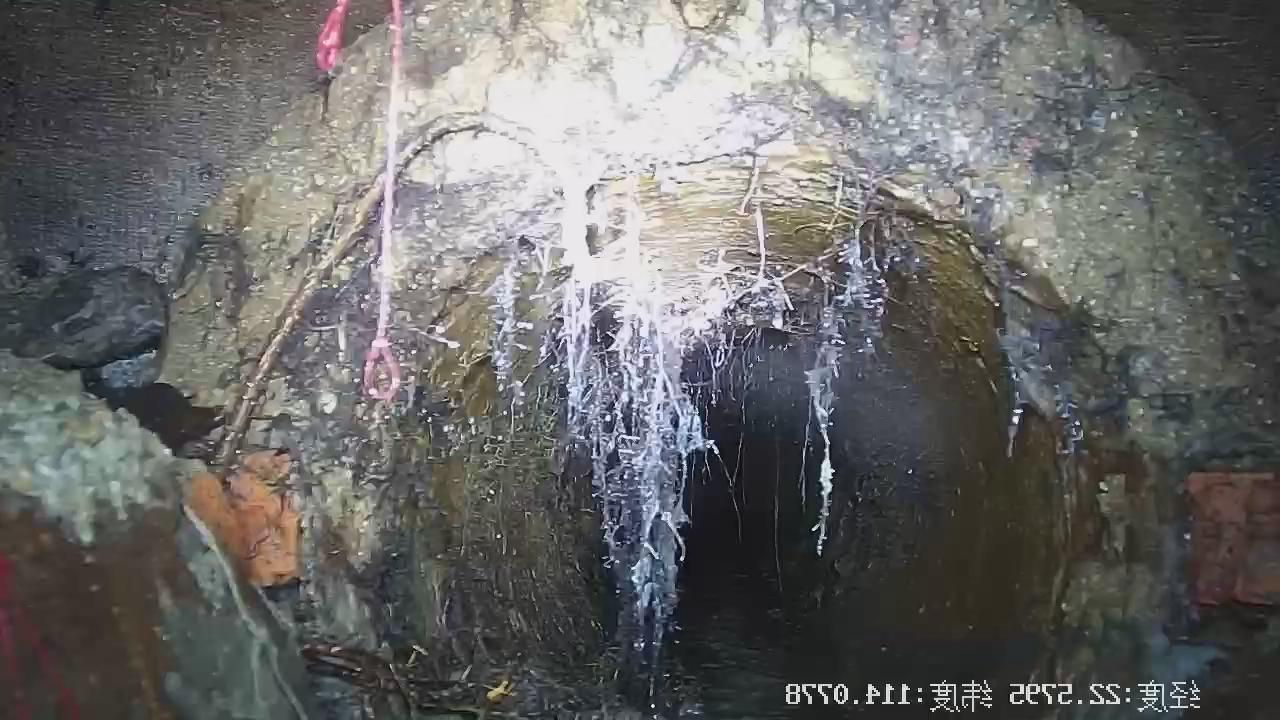SG: (492, 184, 886, 665)
